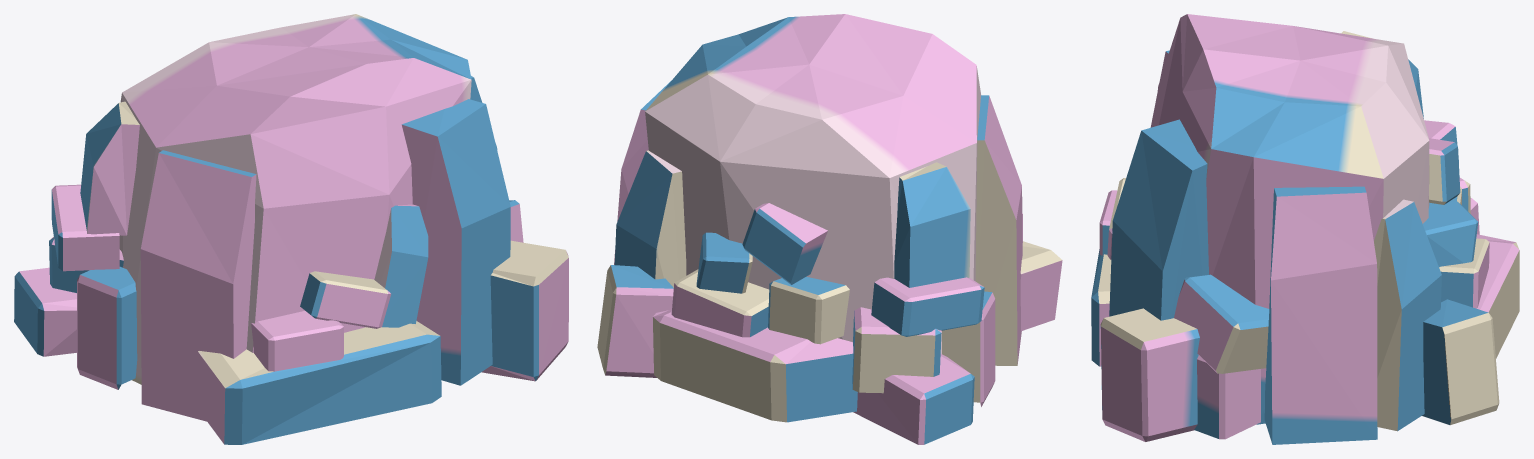
The model's file is Rock_4  (1).fbx.
The picture shows the model from 3 angles, left to right: view 1: azimuth 30°, elevation 25°; view 2: azimuth 150°, elevation 25°; view 3: azimuth 270°, elevation 25°; orthographic projection. The views are drawn at different scales.
Parts seen in each view (by area): view 1: Rock_4; view 2: Rock_4; view 3: Rock_4.
Boxes of the visible parts, x1=… form: Rock_4: x1=14, y1=14, x2=568, y2=444; Rock_4: x1=597, y1=14, x2=1062, y2=444; Rock_4: x1=1091, y1=14, x2=1519, y2=444.
Bounding box in the file's own units: 15.39 × 11.39 × 13.86.
